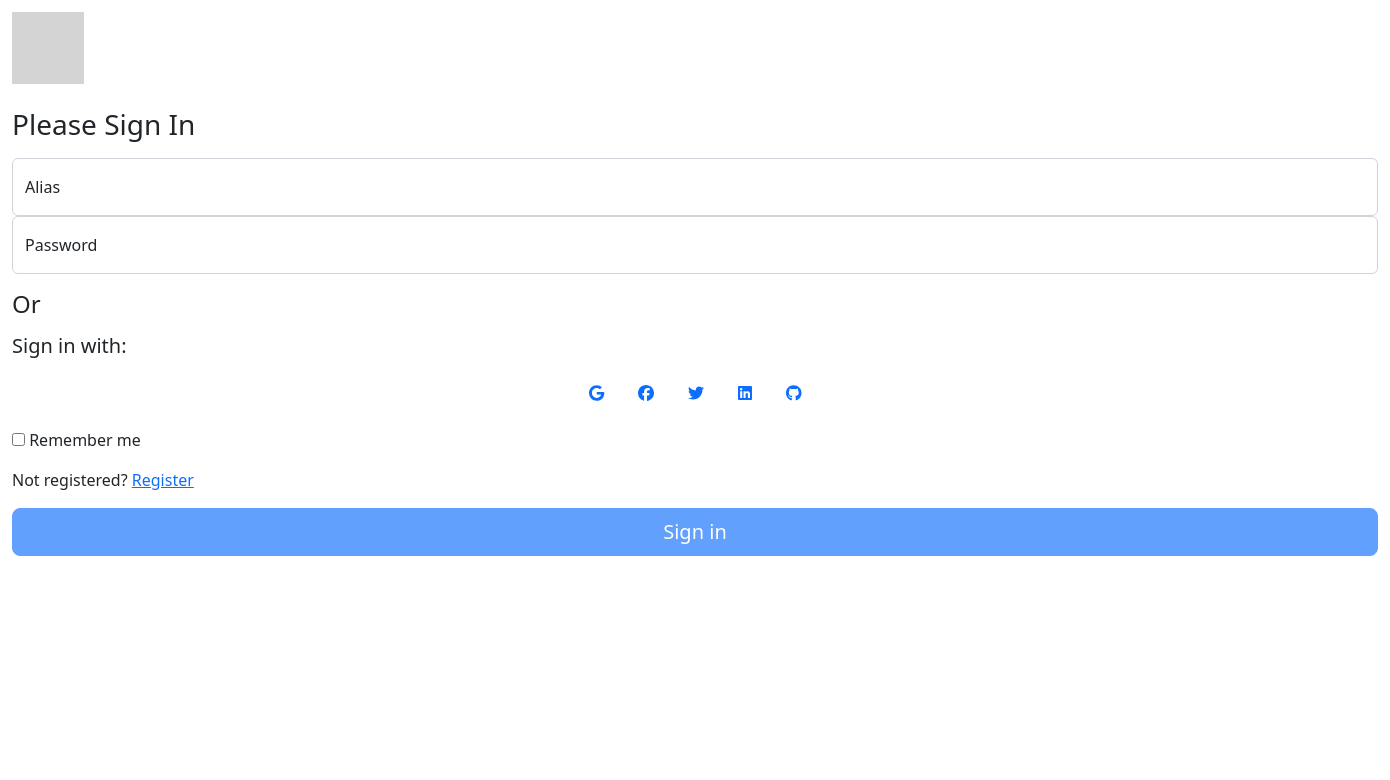
Scenario: Login Component › enabled the sign in button if both alias and password have text
The width and height of the screenshot is (1390, 780).
Step 1. Type "a" into the field labelled "Alias" → coordinates (695, 187), box [12,158,1378,216]
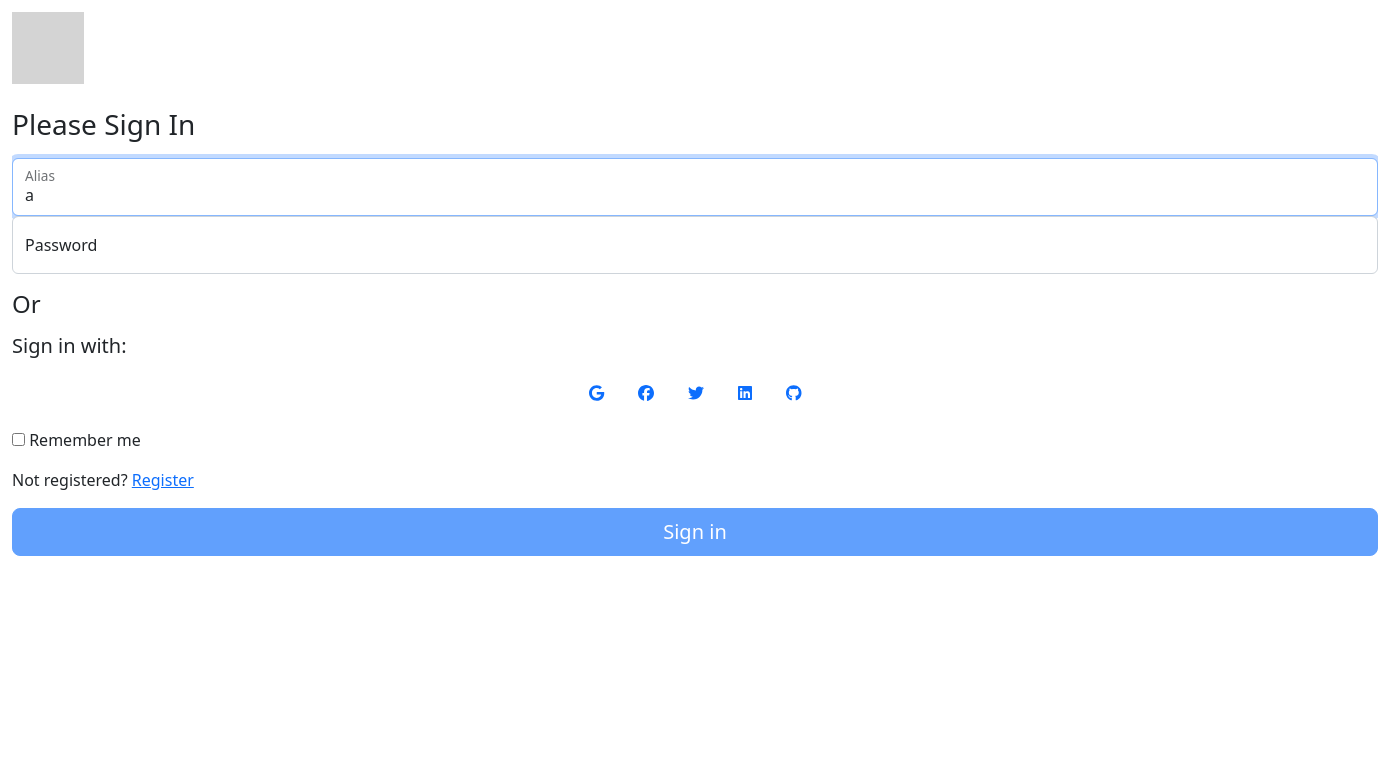
Step 2. Type "a" into the password field labelled "Password" → coordinates (695, 245), box [12,216,1378,274]
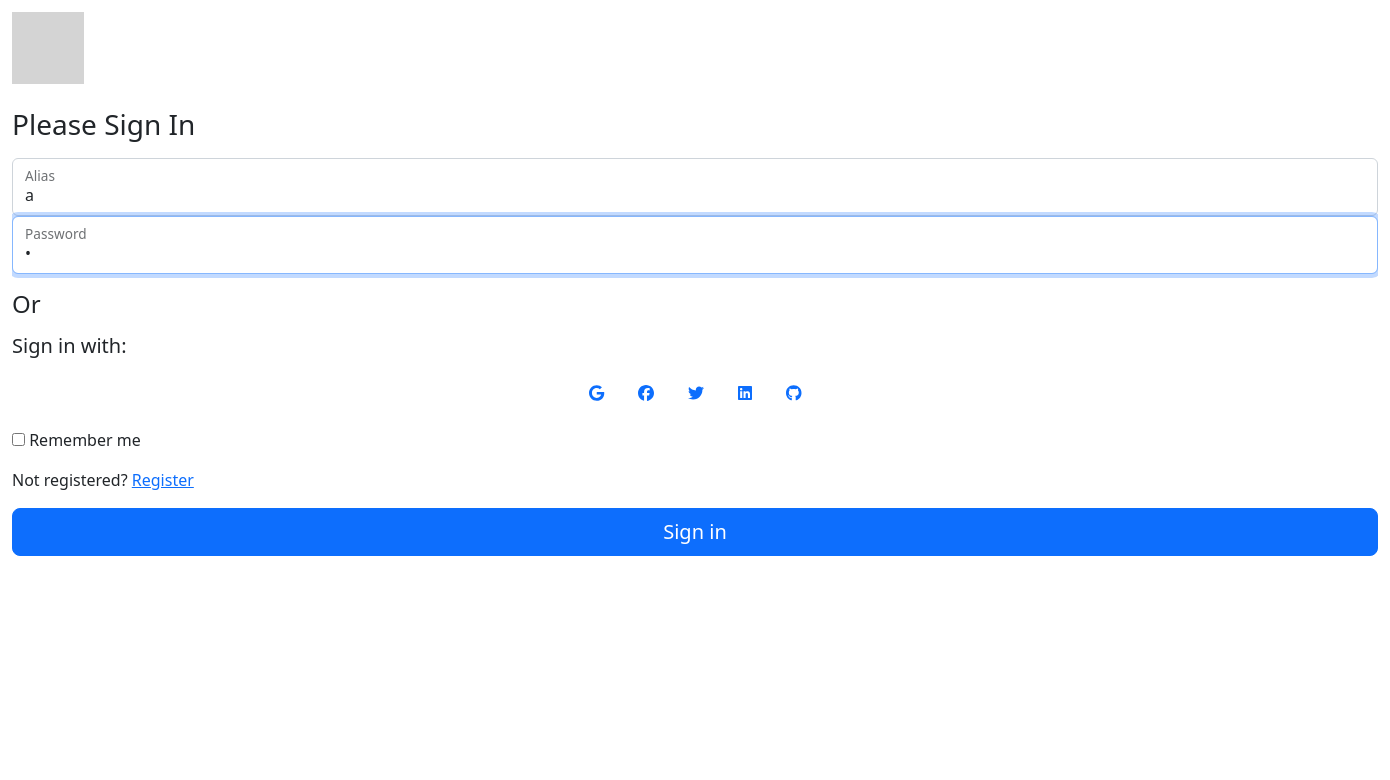
Now the button "Sign in" is enabled, box [12,508,1378,556]
